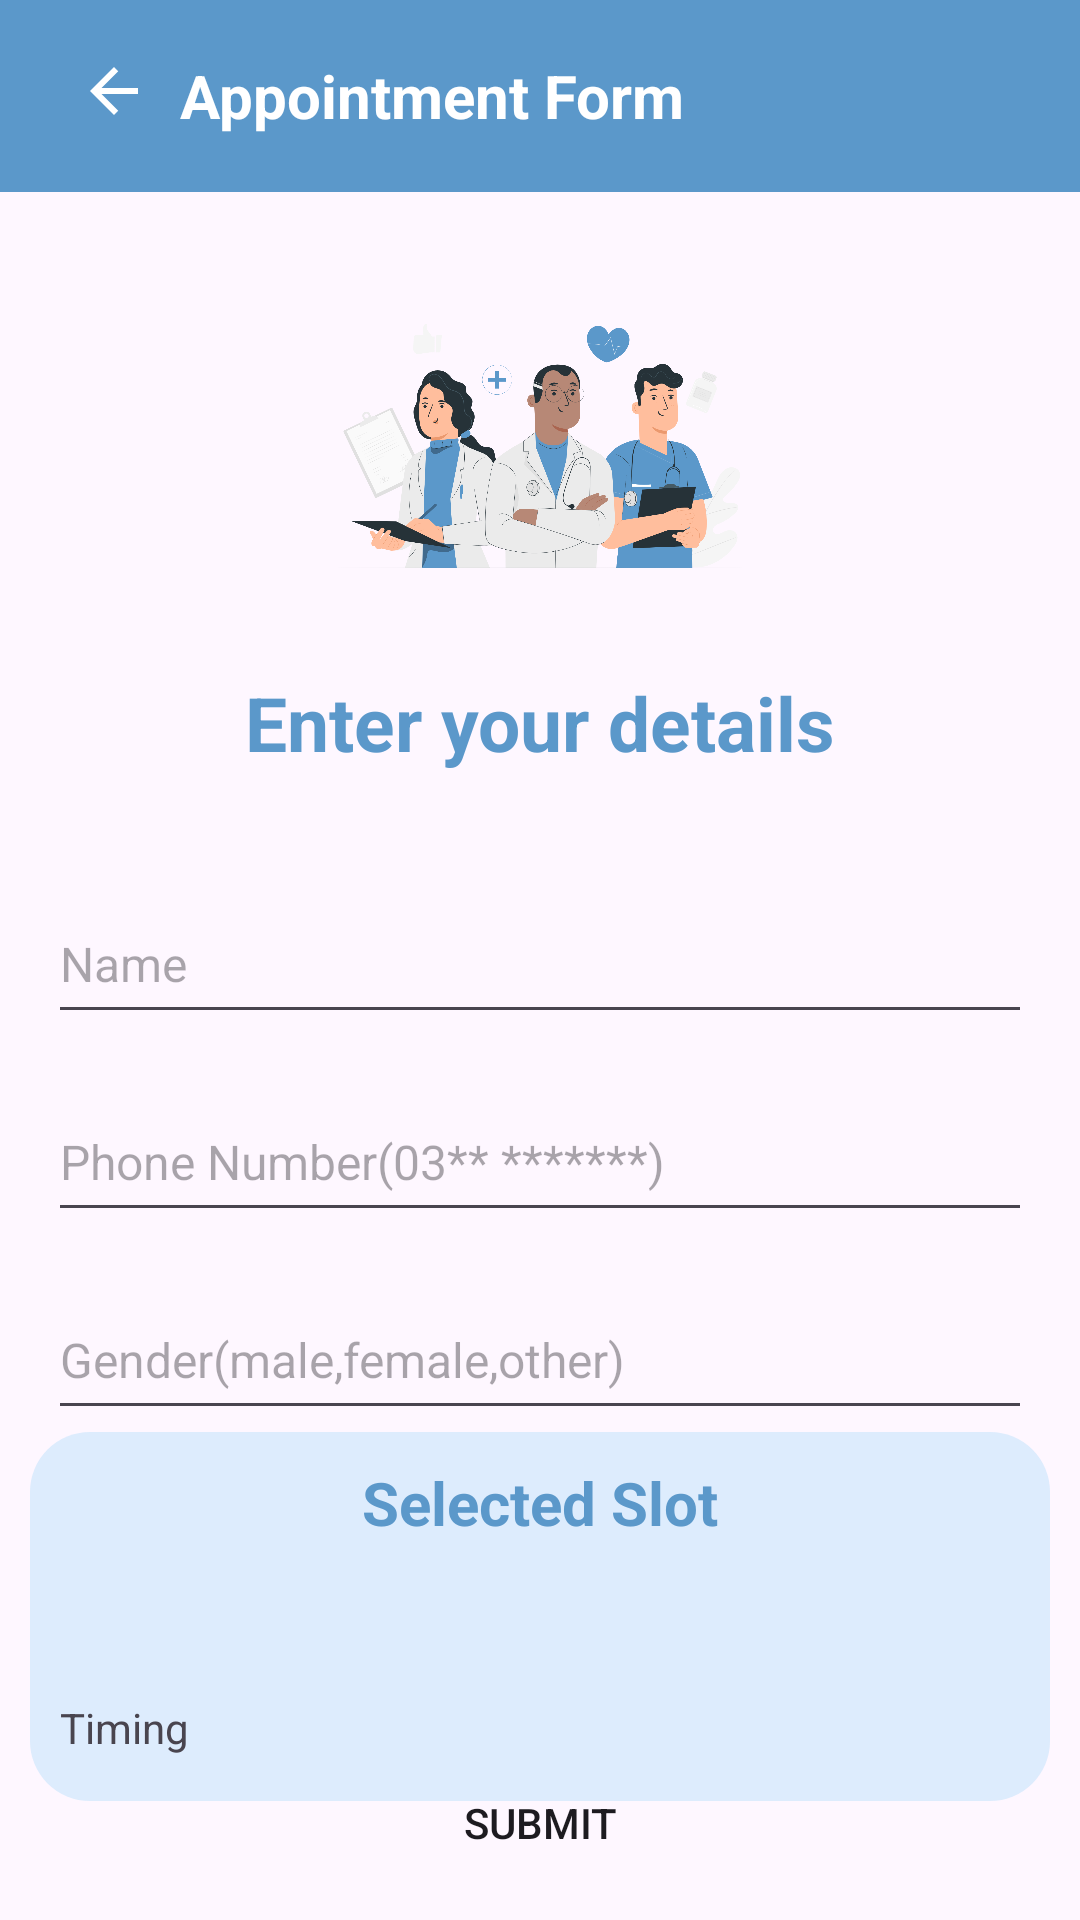

Icons on this 1080w x 1920h Android screen, each with the point to tap as (x,y):
back arrow: (114,91)
